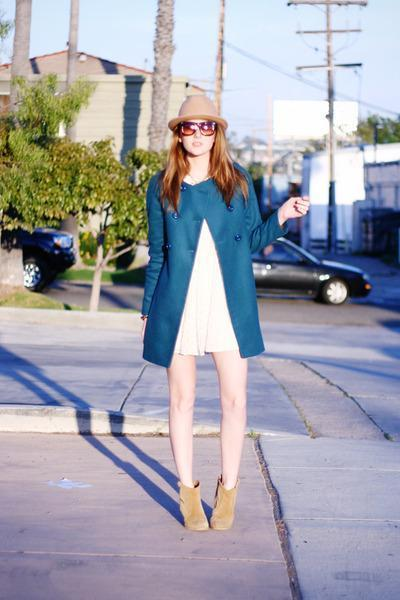dress: (174, 219, 235, 355)
hat: (169, 96, 225, 125)
jacket: (135, 180, 287, 368)
shoe: (180, 476, 238, 529)
sunglass: (197, 118, 227, 133)
